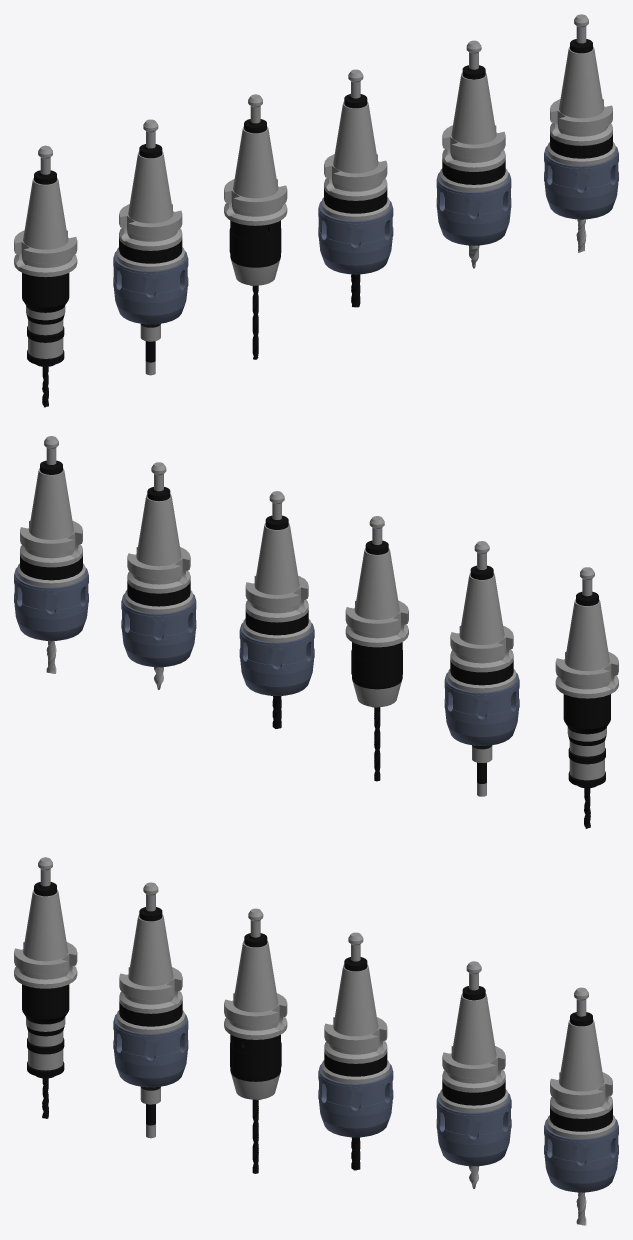
File: Cnc_Dril01.FBX
3 views of the same model, one above another, from view 1: azimuth 30°, elevation 25°; view 2: azimuth 150°, elevation 25°; view 3: azimuth 330°, elevation 25° (orthographic).
Visible parts, largest first — view 1: Drill02, Drill04, Drill05, Drill06, Cylinder141, Cylinder144, Cylinder146, Cylinder139, Cylinder024, Cylinder152, Cylinder145, Cylinder142; view 2: Drill02, Drill05, Drill04, Drill06, Cylinder144, Cylinder141, Cylinder024, Cylinder139, Cylinder146, Cylinder152, Cylinder145, Cylinder142; view 3: Drill02, Drill05, Drill04, Drill06, Cylinder141, Cylinder144, Cylinder139, Cylinder024, Cylinder146, Cylinder152, Cylinder145, Cylinder142.
Part boxes in pixels (left/top/right/bottom): Drill02: left=113, top=238, right=188, bottom=375; Drill04: left=318, top=188, right=393, bottom=274; Drill05: left=436, top=159, right=511, bottom=245; Drill06: left=544, top=133, right=618, bottom=219; Cylinder141: left=224, top=94, right=287, bottom=225; Cylinder144: left=14, top=145, right=77, bottom=277; Cylinder146: left=442, top=40, right=505, bottom=171; Cylinder139: left=119, top=119, right=182, bottom=250; Cylinder024: left=324, top=69, right=387, bottom=200; Cylinder152: left=550, top=14, right=612, bottom=145; Cylinder145: left=22, top=273, right=69, bottom=366; Cylinder142: left=229, top=220, right=281, bottom=285; Drill02: left=444, top=659, right=519, bottom=796; Drill05: left=121, top=581, right=196, bottom=667; Drill04: left=239, top=610, right=314, bottom=696; Drill06: left=14, top=555, right=88, bottom=641; Cylinder144: left=555, top=567, right=618, bottom=698; Cylinder141: left=345, top=516, right=408, bottom=647; Cylinder024: left=245, top=491, right=308, bottom=622; Cylinder139: left=450, top=541, right=513, bottom=672; Cylinder146: left=127, top=462, right=190, bottom=593; Cylinder152: left=20, top=436, right=82, bottom=567; Cylinder145: left=563, top=694, right=610, bottom=788; Cylinder142: left=351, top=642, right=402, bottom=707; Drill02: left=113, top=1001, right=188, bottom=1138; Drill05: left=436, top=1080, right=511, bottom=1166; Drill04: left=318, top=1051, right=393, bottom=1137; Drill06: left=544, top=1106, right=618, bottom=1192; Cylinder141: left=224, top=908, right=287, bottom=1039; Cylinder144: left=14, top=857, right=77, bottom=988; Cylinder139: left=119, top=882, right=182, bottom=1013; Cylinder024: left=324, top=932, right=387, bottom=1063; Cylinder146: left=442, top=961, right=505, bottom=1092; Cylinder152: left=550, top=987, right=612, bottom=1118; Cylinder145: left=22, top=984, right=69, bottom=1078; Cylinder142: left=230, top=1034, right=281, bottom=1099.
Bounding box in the file's own units: 68.51 × 28.98 × 7.46.
